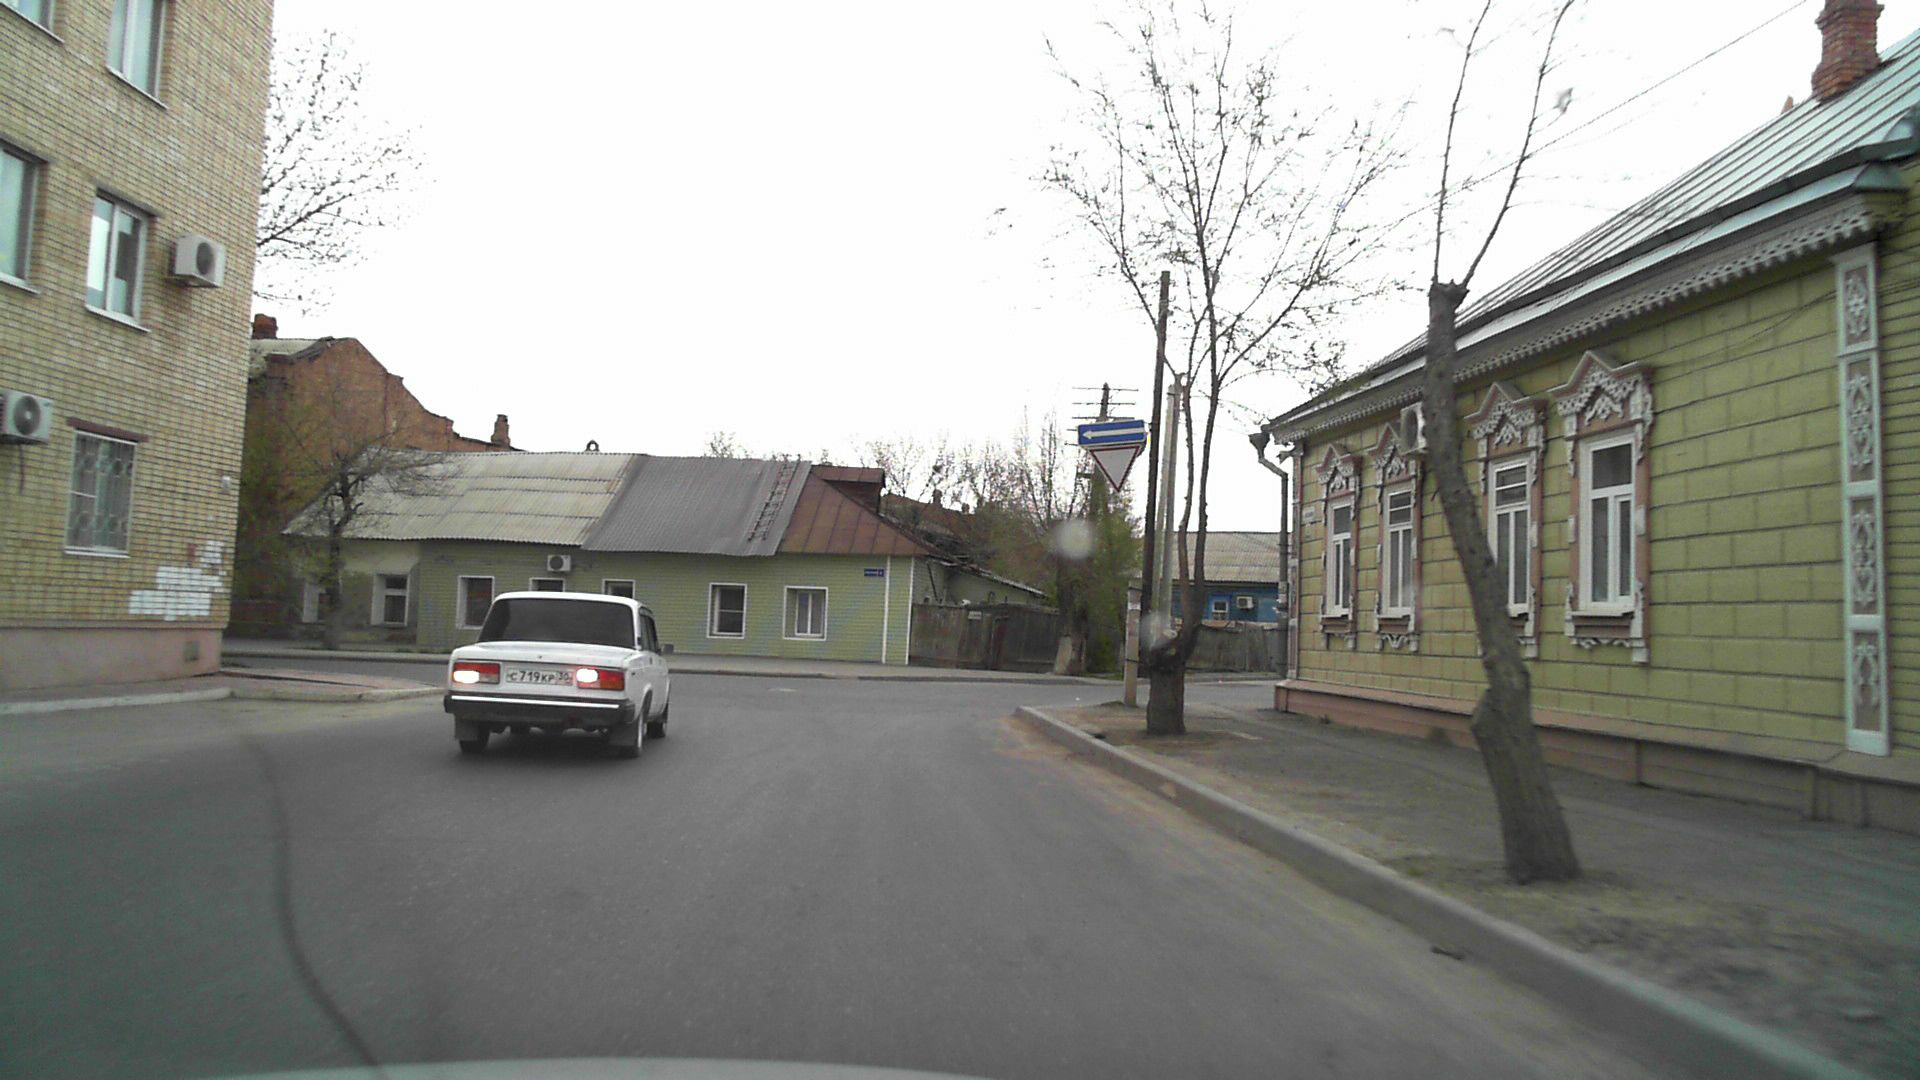One-Way Traffic: (1077, 419, 1145, 444)
